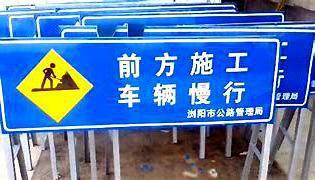sign: (1, 39, 276, 131)
